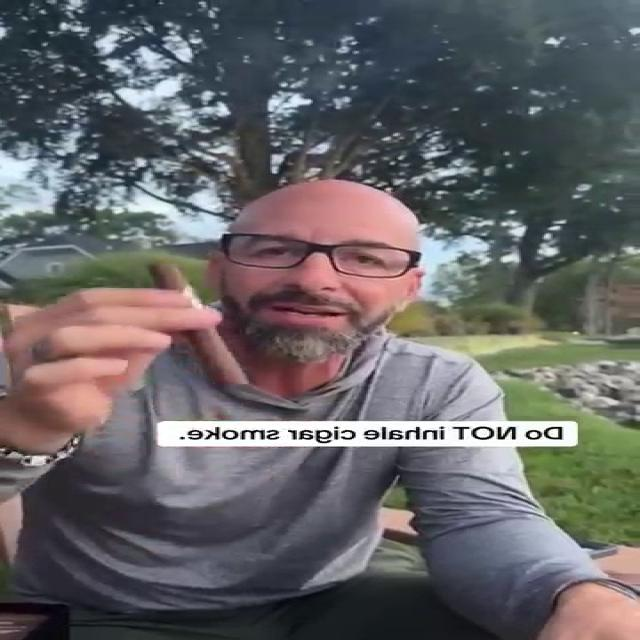Cigarette: (144, 260, 249, 386)
Hand: (2, 285, 226, 428)
Mouth: (258, 300, 352, 322)
